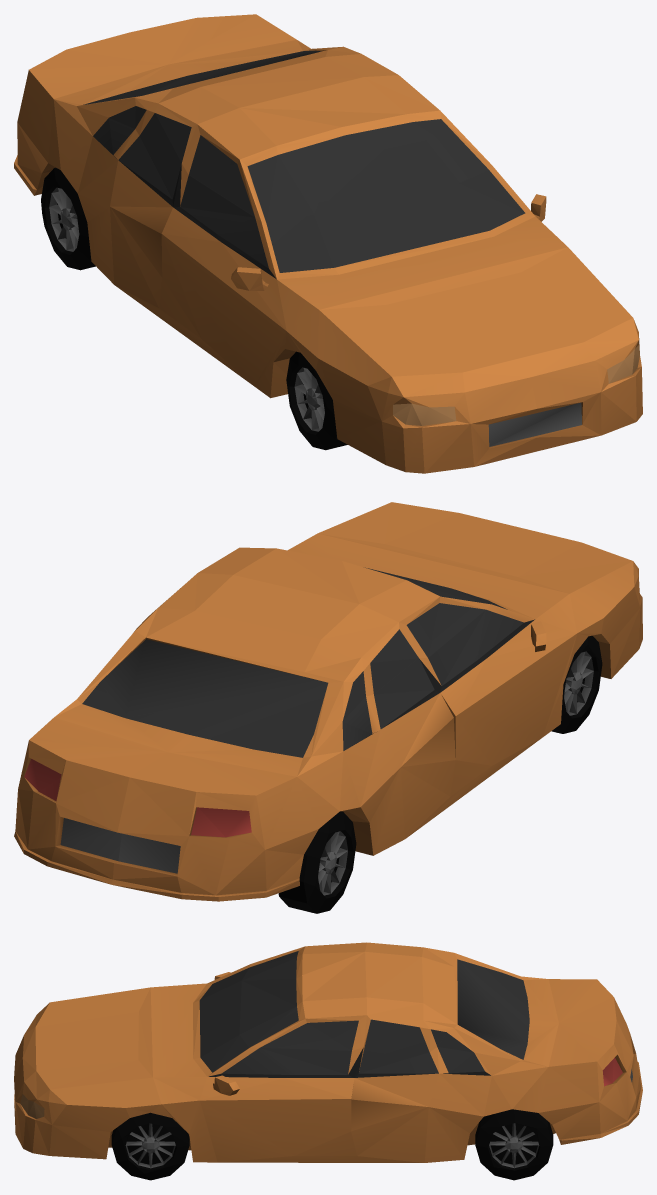
The model's file is car-orange.glb.
3 views of the same model, one above another, from view 1: azimuth 30°, elevation 25°; view 2: azimuth 150°, elevation 25°; view 3: azimuth 270°, elevation 25° (orthographic). The views are drawn at different scales.
Parts seen in each view (by area): view 1: car-orange; view 2: car-orange; view 3: car-orange.
Boxes of the visible parts, box(x1,y1,x2,y2) form: car-orange: box(14, 14, 642, 473); car-orange: box(14, 502, 642, 913); car-orange: box(14, 942, 642, 1180).
Size of the model in its own units: 2.22 by 1.45 by 5.19.
